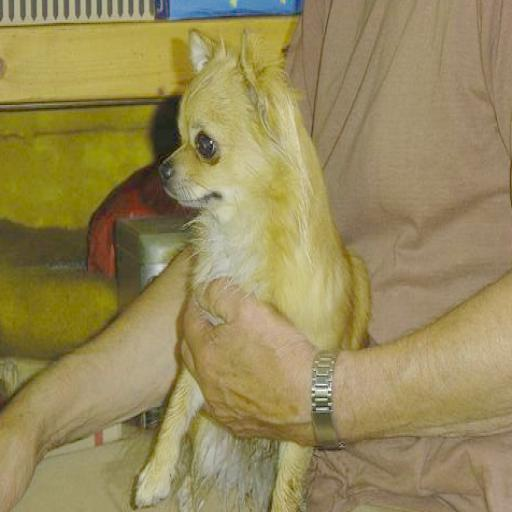dog_face: (160, 18, 286, 211)
